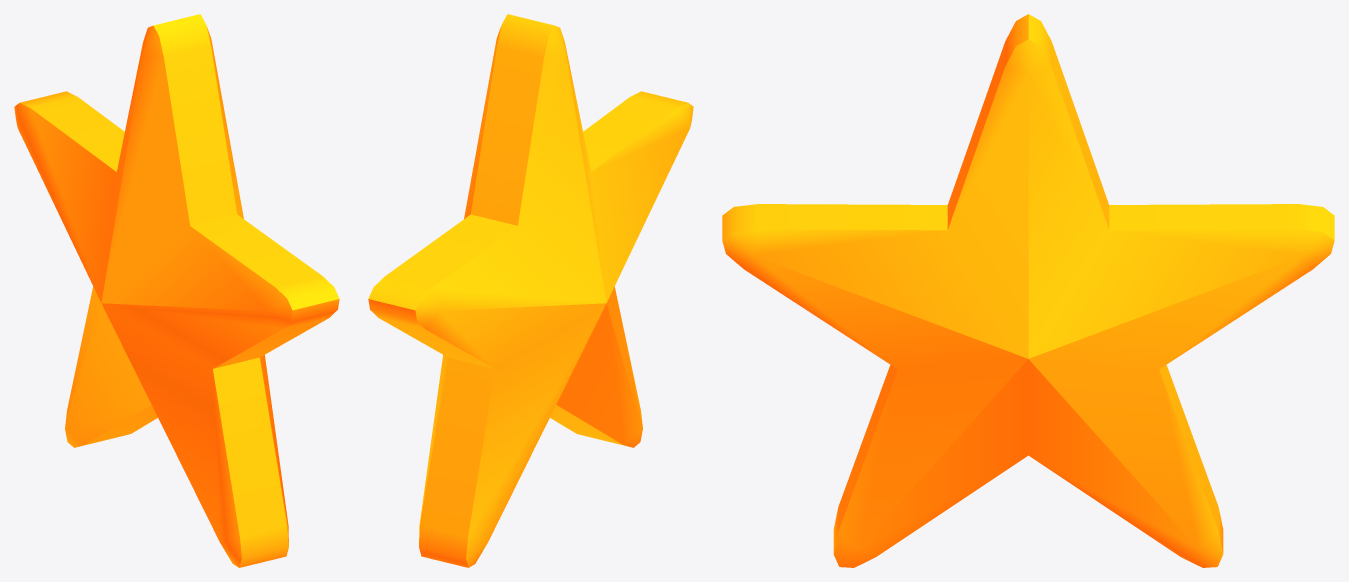
File: star1.glb
3 renders of one model, left to right at view 1: azimuth 30°, elevation 25°; view 2: azimuth 150°, elevation 25°; view 3: azimuth 270°, elevation 25°, orthographic. The views are drawn at different scales.
Parts seen in each view (by area): view 1: Вращение 360.001; view 2: Вращение 360.001; view 3: Вращение 360.001.
Part boxes in pixels (<box>): Вращение 360.001: <box>14,14,339,567</box>; Вращение 360.001: <box>368,14,693,567</box>; Вращение 360.001: <box>722,14,1334,567</box>.
Size of the model in its own units: 0.0873 by 0.2652 by 0.2784.
